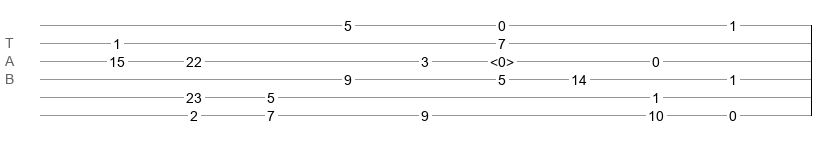0: (498, 18, 506, 28), (652, 54, 660, 64), (729, 108, 737, 118)
1: (113, 36, 121, 46), (652, 90, 660, 100), (729, 18, 737, 28), (729, 72, 737, 82)
10: (648, 108, 664, 118)
14: (571, 72, 587, 82)
15: (109, 54, 125, 64)
2: (190, 108, 198, 118)
22: (186, 54, 202, 64)
23: (186, 90, 202, 100)
3: (421, 54, 429, 64)
5: (267, 90, 275, 100), (344, 18, 352, 28), (498, 72, 506, 82)
7: (267, 108, 275, 118), (498, 36, 506, 46)
9: (344, 72, 352, 82), (421, 108, 429, 118)
harmonic: (490, 54, 514, 64)
